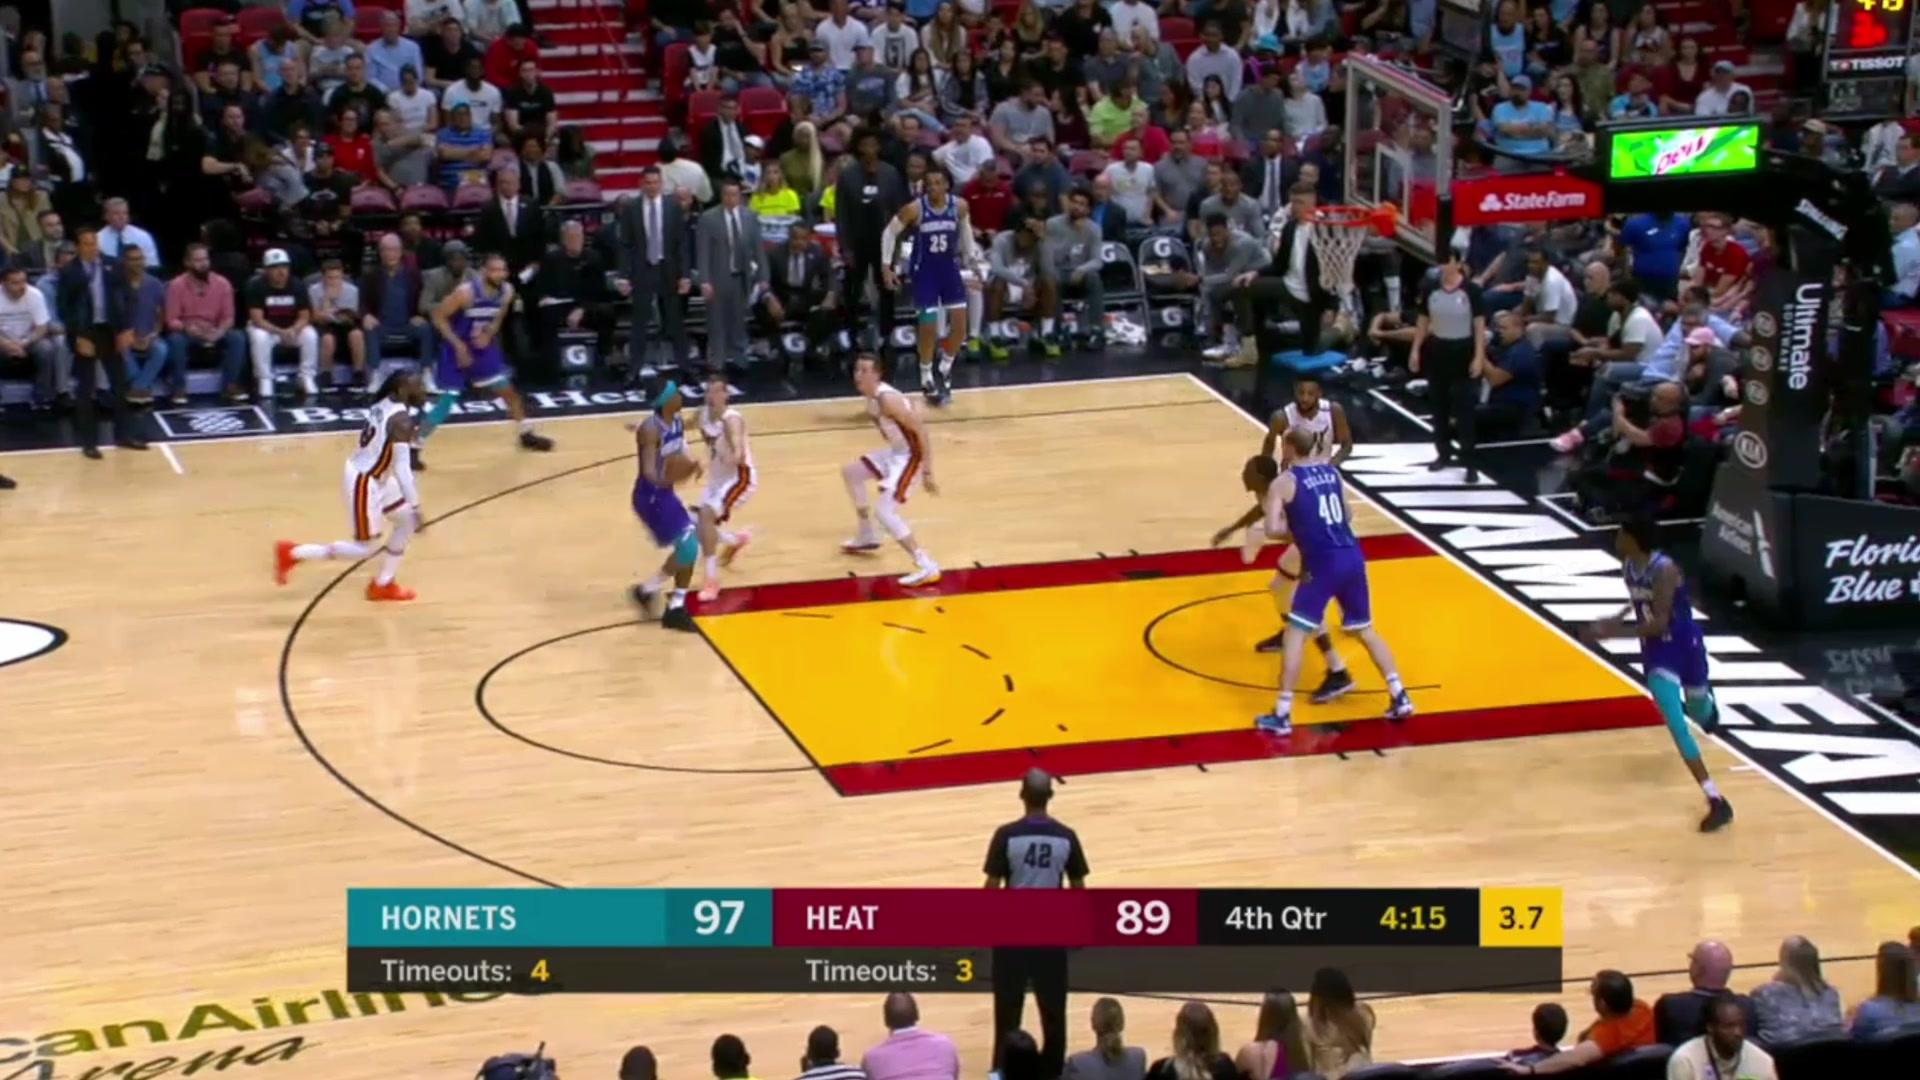no_foul: (629, 361, 756, 615)
